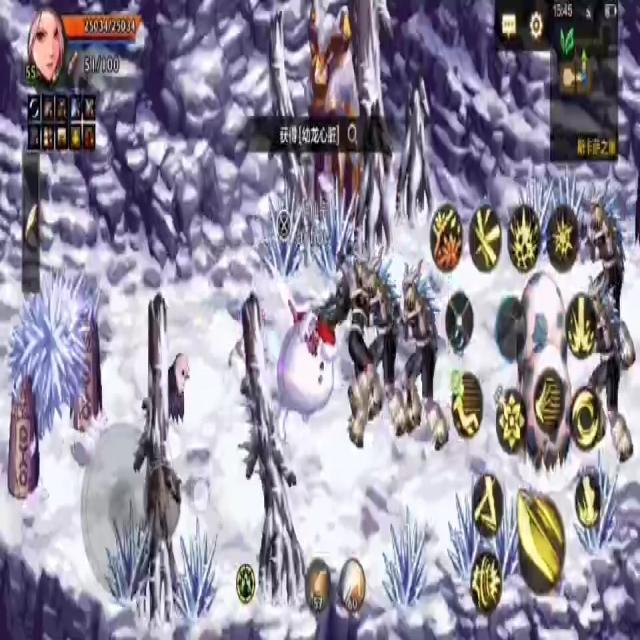player: (274, 288, 338, 452)
